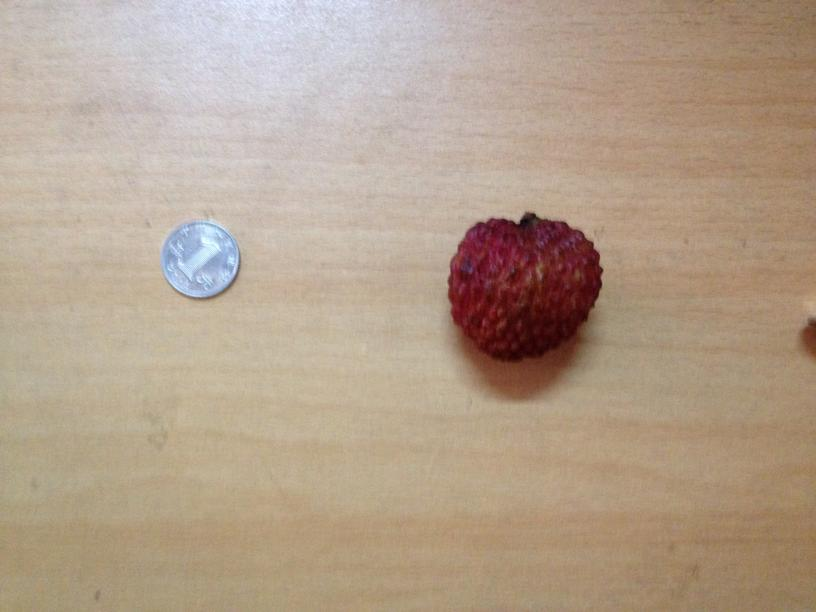coin: (159, 222, 239, 299)
litchi: (445, 214, 604, 358)
